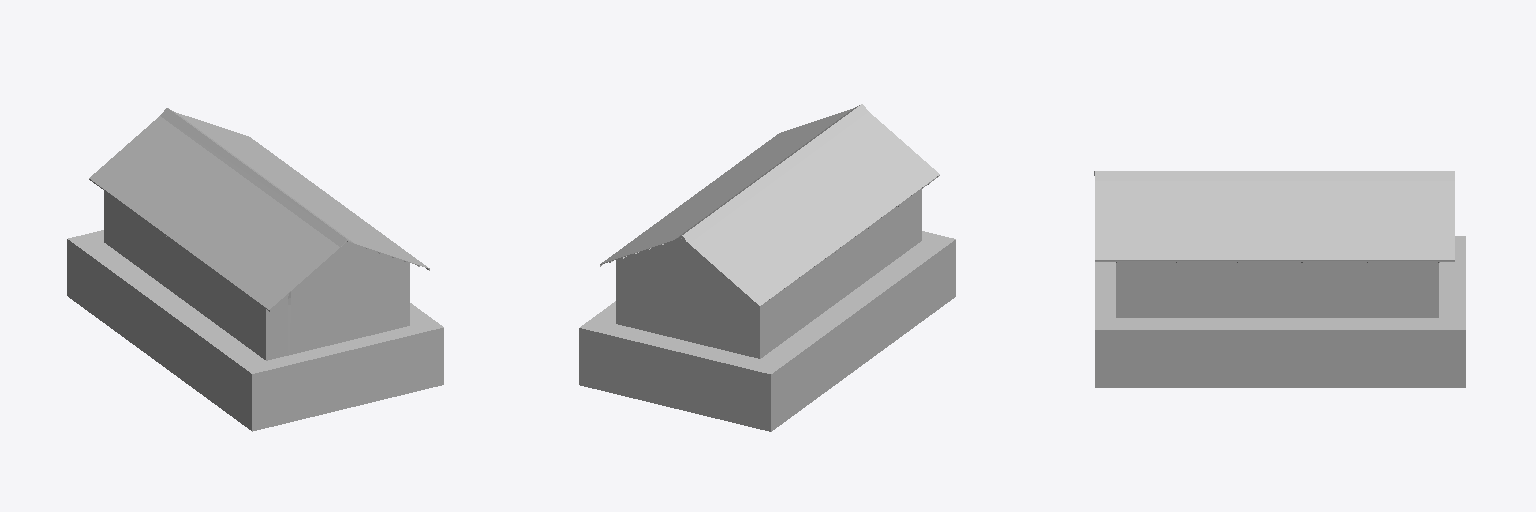
File: house_high.obj
The picture shows the model from 3 angles: view 1: azimuth 30°, elevation 25°; view 2: azimuth 150°, elevation 25°; view 3: azimuth 270°, elevation 25°; orthographic projection.
Parts seen in each view (by area): view 1: SAN_RUMAHGEN05; view 2: SAN_RUMAHGEN05; view 3: SAN_RUMAHGEN05.
Boxes of the visible parts, <box> form: SAN_RUMAHGEN05: <box>67,108,443,431</box>; SAN_RUMAHGEN05: <box>579,104,955,431</box>; SAN_RUMAHGEN05: <box>1094,171,1465,387</box>.
Size of the model in its own units: 9.88 by 8.34 by 16.55.